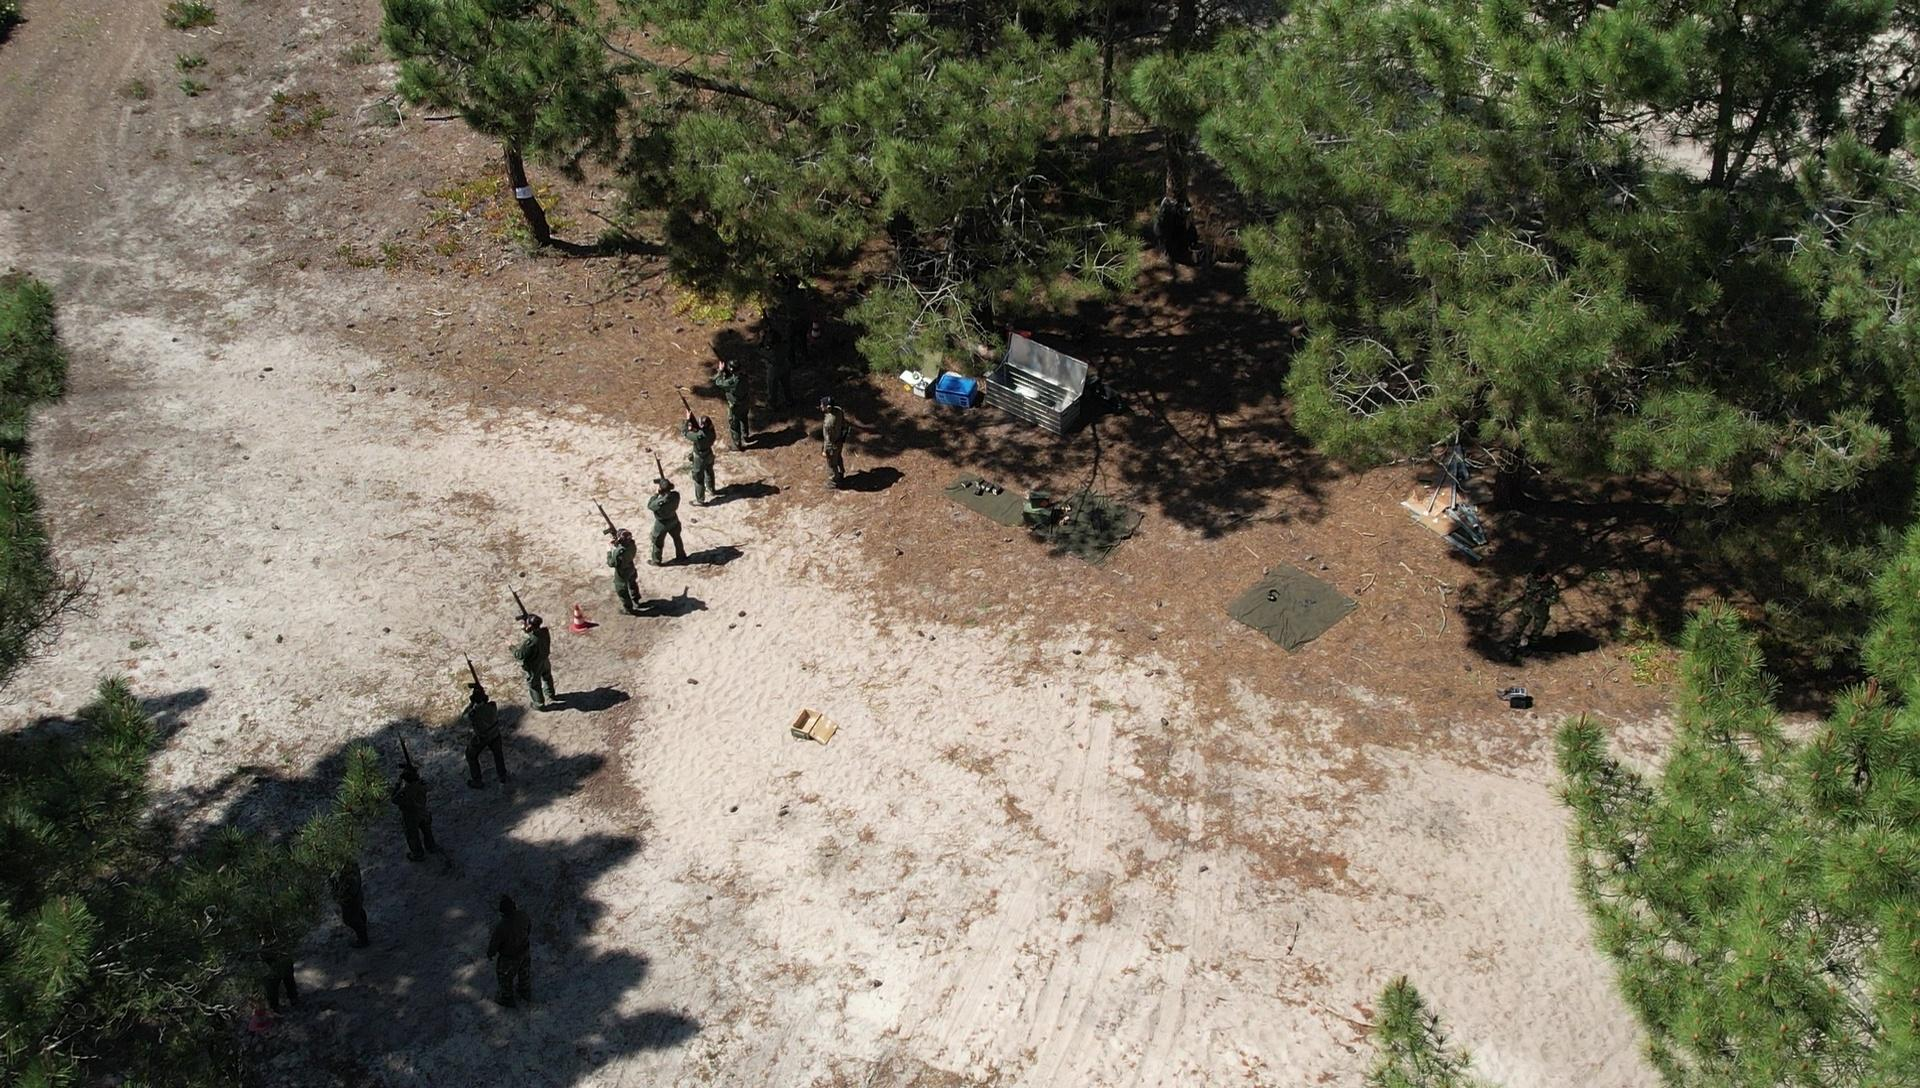Soldier: (636, 464, 702, 595), (458, 657, 514, 803), (596, 508, 655, 641), (669, 411, 725, 547), (483, 893, 543, 1012), (390, 739, 442, 873), (1507, 553, 1567, 662), (514, 595, 562, 723), (721, 342, 769, 456), (816, 392, 857, 497)
